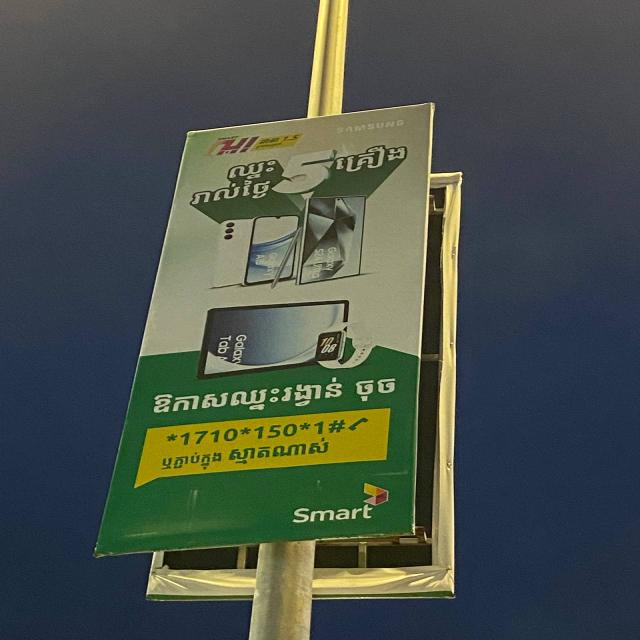1: (147, 372, 401, 420), (153, 436, 343, 476)
126: (162, 414, 351, 449)
764: (270, 146, 337, 194)
Yolov11_80vkh: (332, 138, 412, 178), (185, 176, 277, 209), (223, 158, 279, 182)
